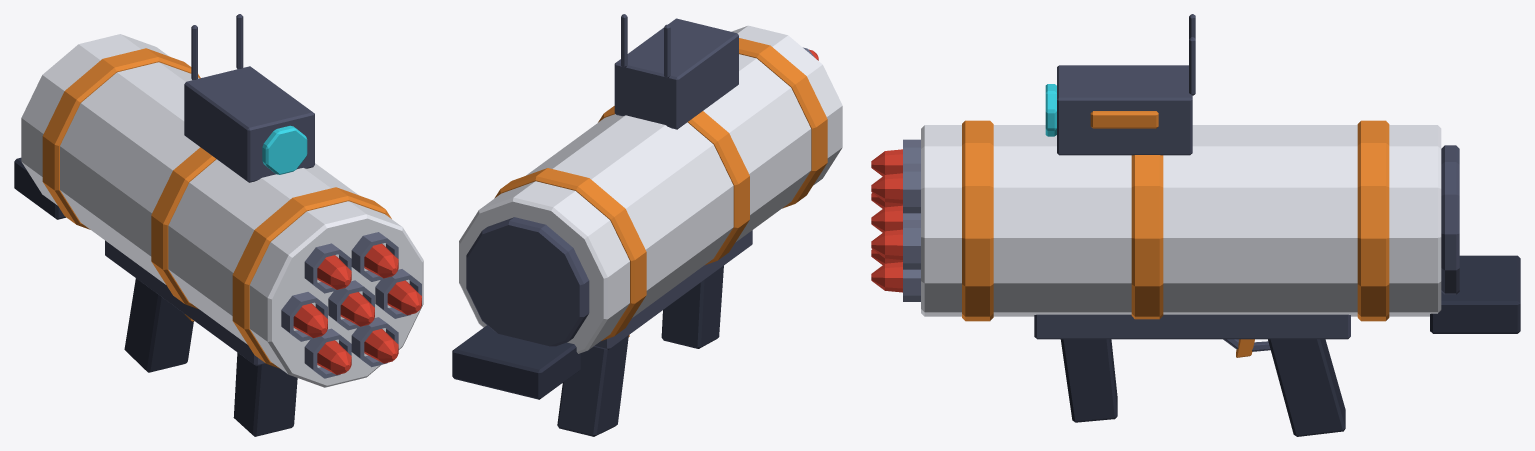
File: myw_swarmlauncher.glb
3 views of the same model, side by side, from view 1: azimuth 30°, elevation 25°; view 2: azimuth 150°, elevation 25°; view 3: azimuth 270°, elevation 25° (orthographic). The views are drawn at different scales.
Visible parts, largest first — view 1: Pod, Missiles, Sight, Grips; view 2: Pod, Grips, Sight; view 3: Pod, Grips, Sight, Missiles.
Boxes of the visible parts, bbox=[...] form: Pod: bbox=[21, 34, 423, 387]; Missiles: bbox=[281, 232, 421, 378]; Sight: bbox=[184, 14, 314, 182]; Grips: bbox=[14, 157, 297, 436]; Pod: bbox=[459, 25, 842, 353]; Grips: bbox=[452, 230, 752, 436]; Sight: bbox=[614, 14, 738, 129]; Pod: bbox=[921, 120, 1459, 321]; Grips: bbox=[1034, 255, 1520, 436]; Sight: bbox=[1045, 14, 1195, 155]; Missiles: bbox=[871, 139, 920, 301].
Size of the model in its own units: 0.8693 by 1.96 by 2.87.
